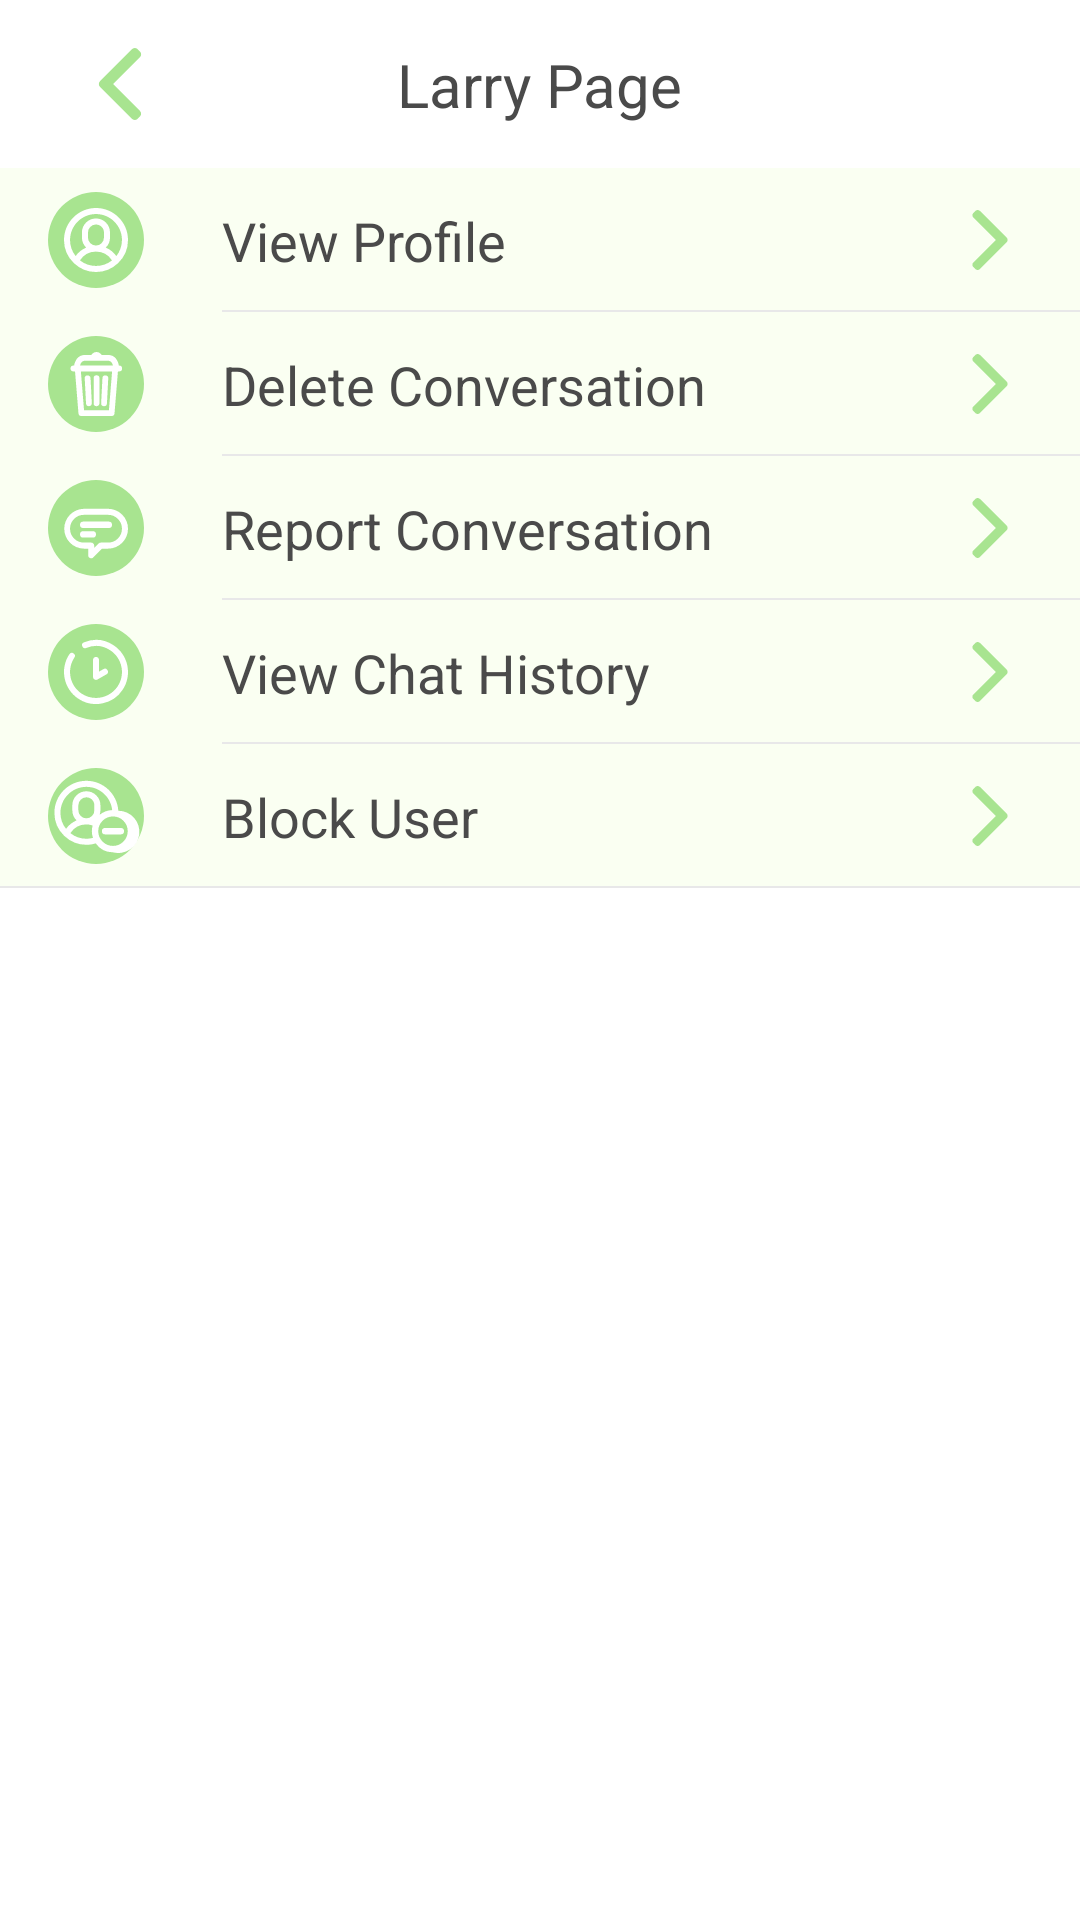

Named icons in this screenshot (1080px×1920px) and their bounding boxes, (x1, y1, x2, y2):
back: (99, 48, 141, 120)
message: (48, 480, 144, 576)
next: (972, 210, 1008, 270), (972, 354, 1008, 414), (972, 498, 1008, 558), (972, 642, 1008, 702), (972, 786, 1008, 846)
